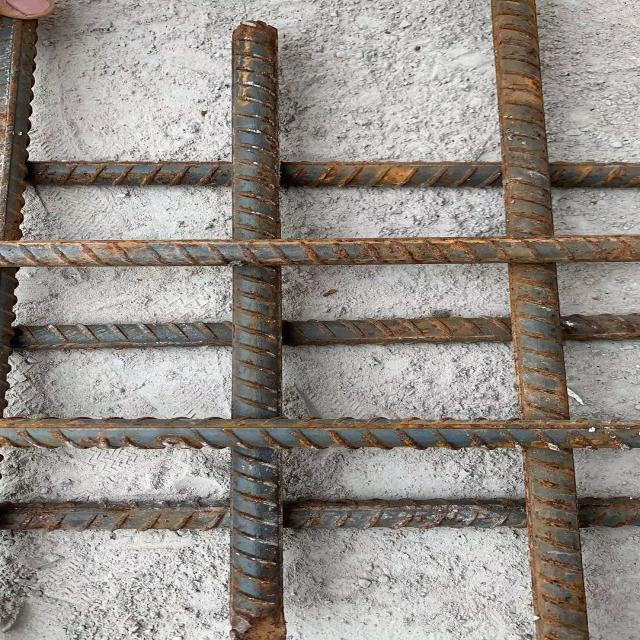ribbed bar: (486, 0, 589, 639), (225, 20, 289, 639), (14, 311, 639, 354), (0, 416, 639, 454), (0, 493, 638, 531), (0, 235, 639, 269), (0, 17, 48, 414), (27, 159, 639, 190)
